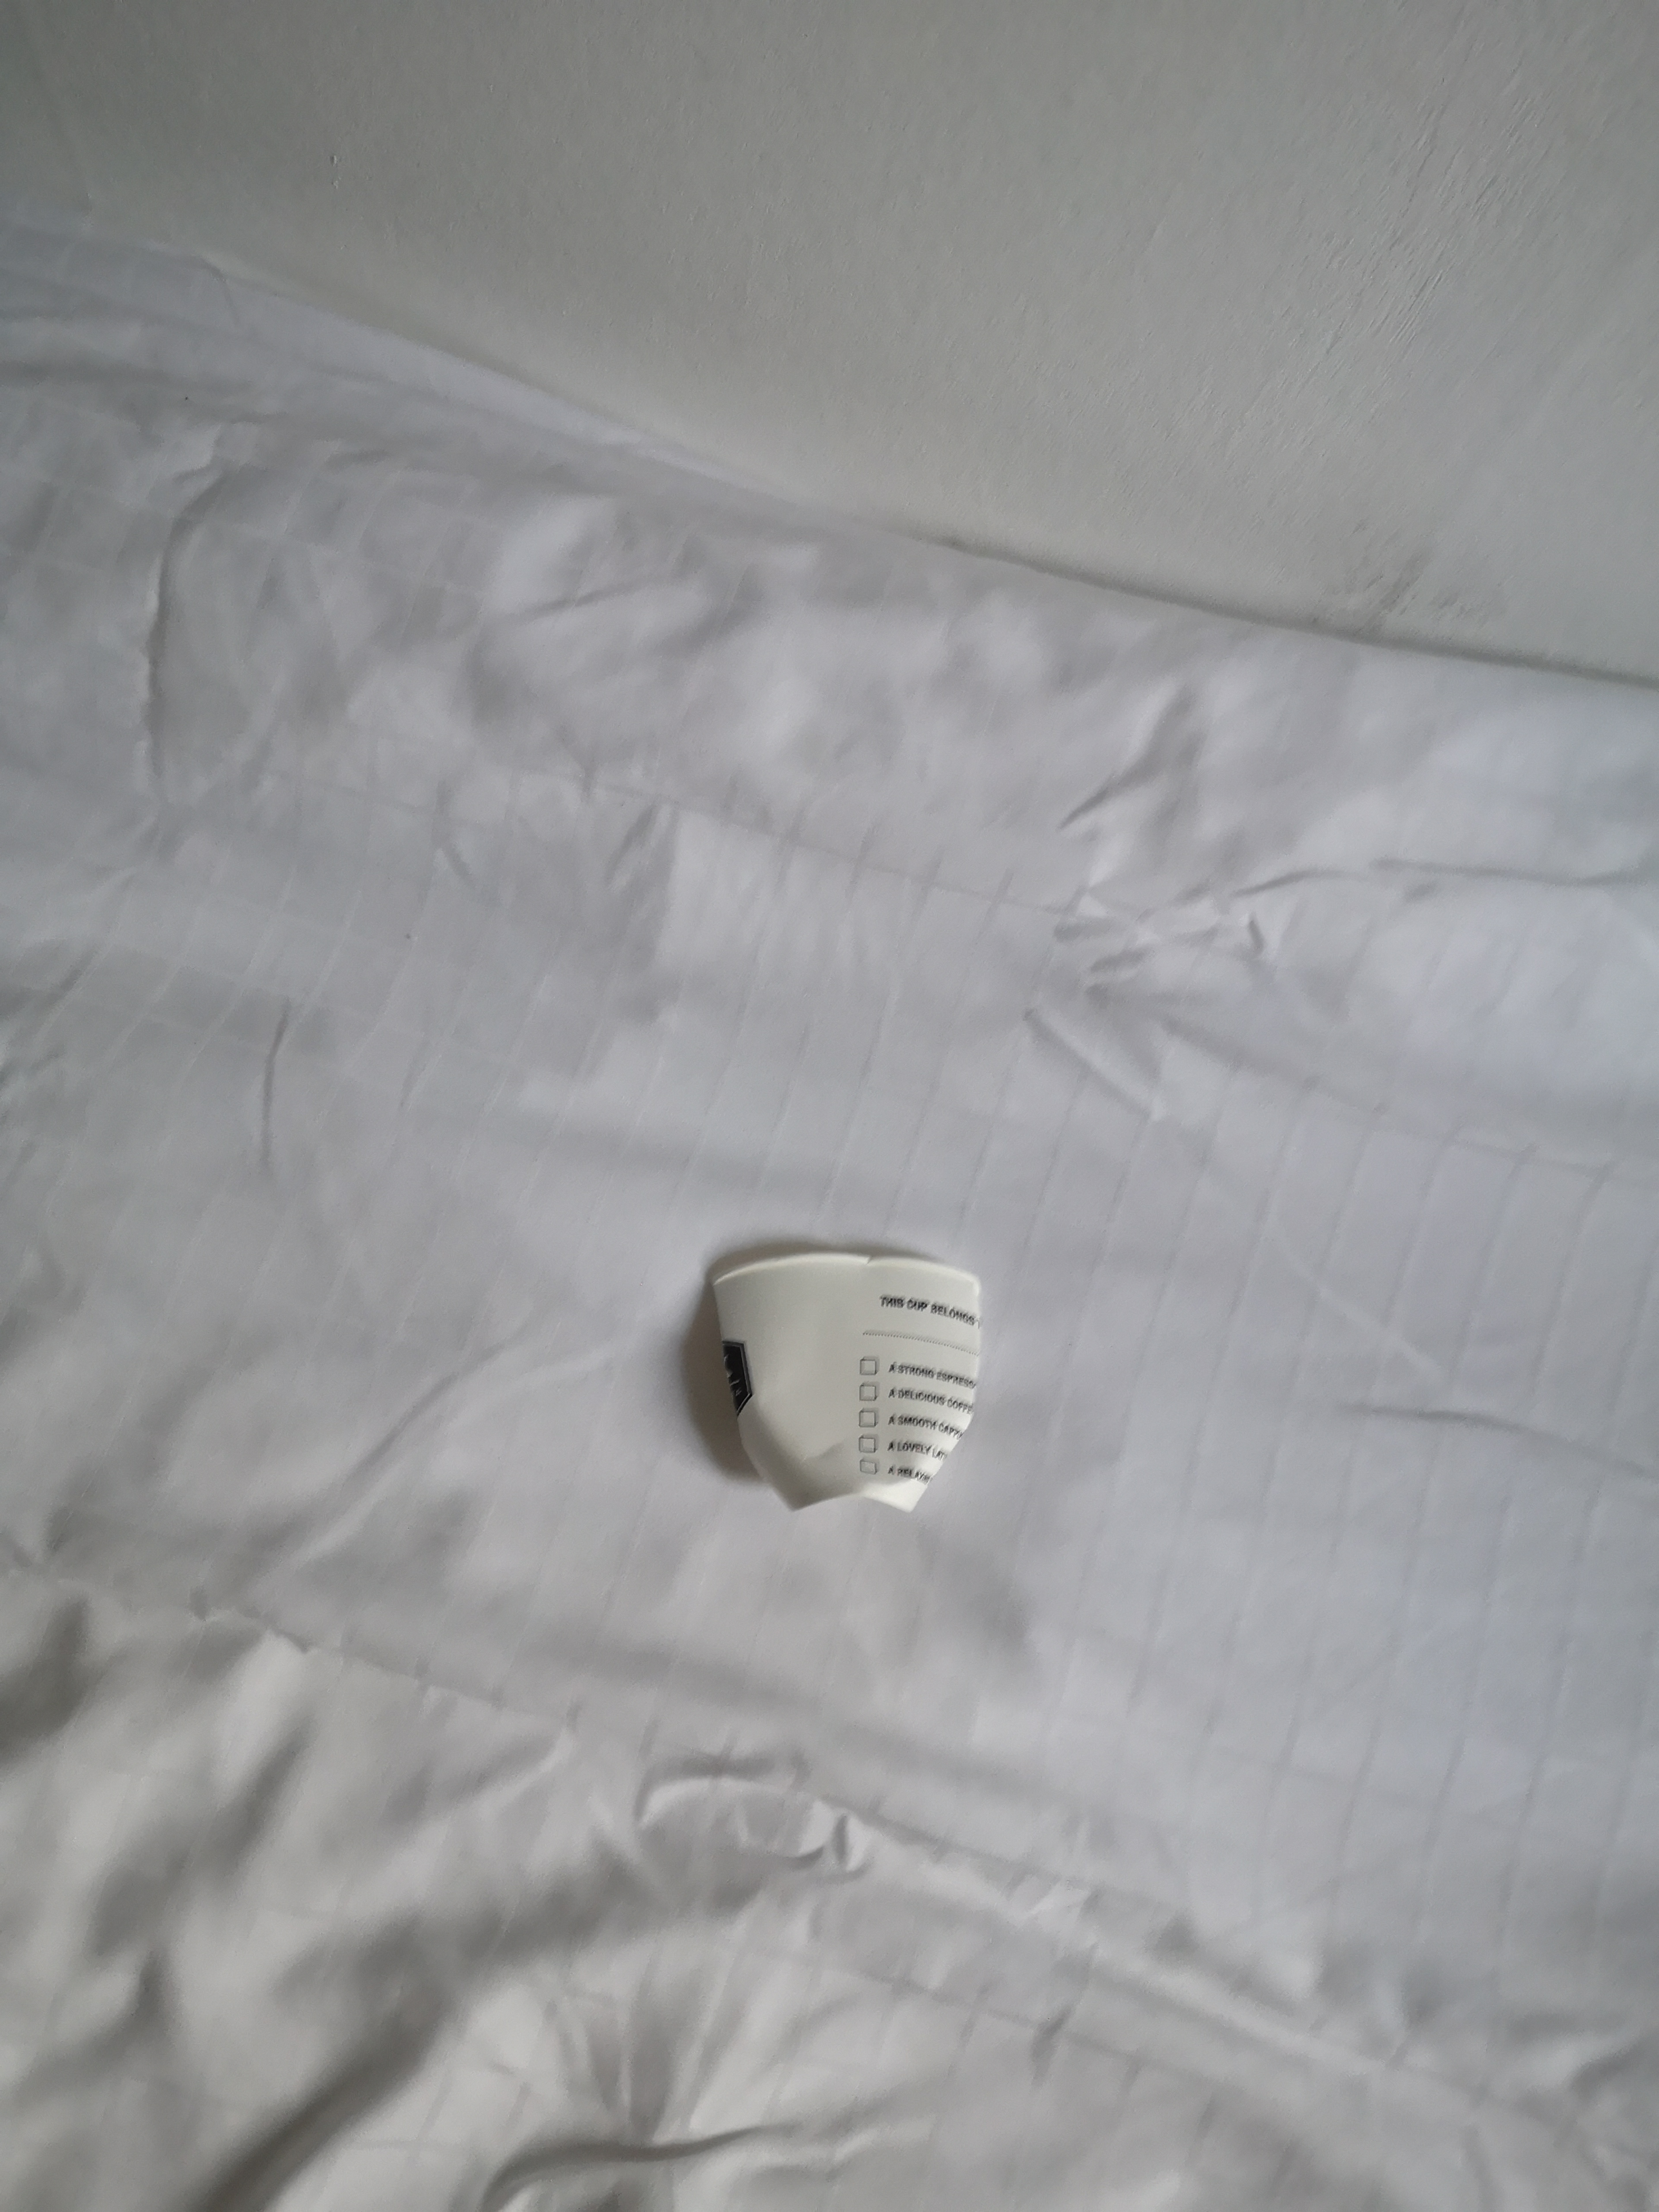cup: (685, 1209, 1021, 1538)
